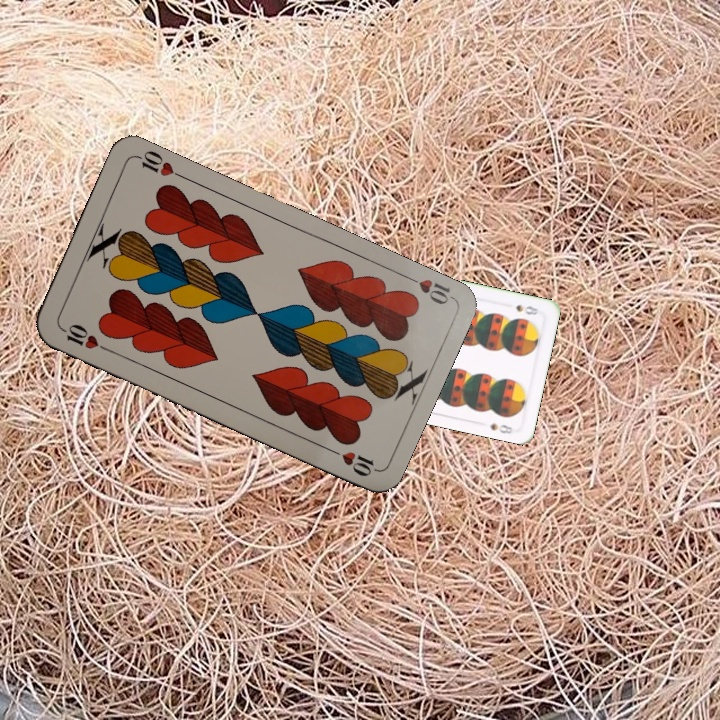H10: (399, 270, 455, 308), (57, 320, 113, 354)
S8: (512, 301, 542, 318)
